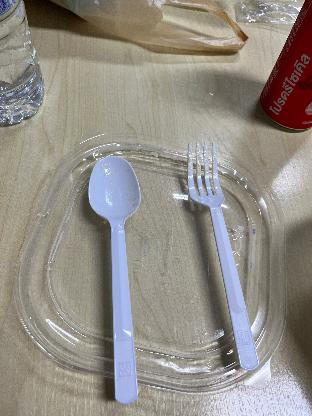Others: (78, 146, 162, 402), (183, 138, 263, 374)
